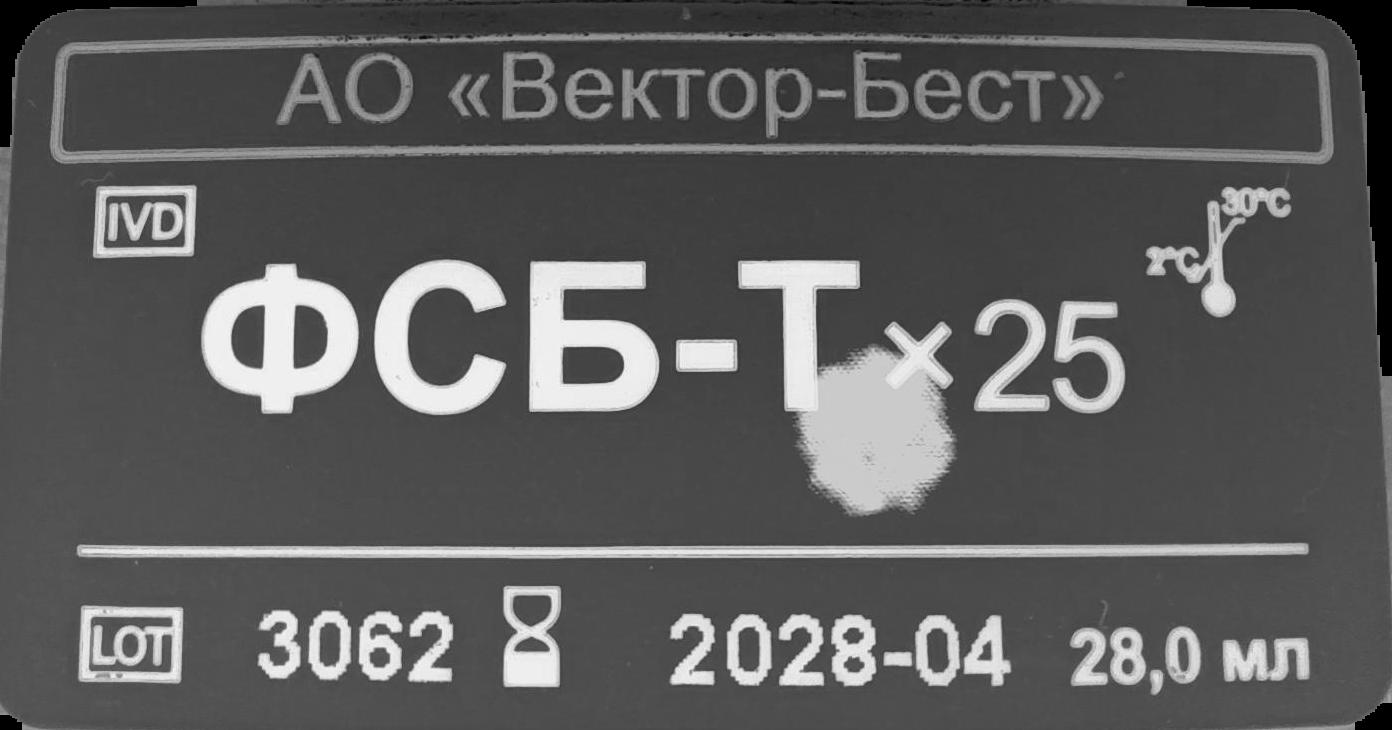something: (1141, 182, 1297, 322), (77, 605, 186, 691), (84, 186, 202, 265), (499, 580, 569, 696)
text: (197, 260, 1132, 424), (266, 46, 1115, 152), (669, 606, 1013, 693), (1063, 623, 1316, 694), (251, 606, 453, 685)
